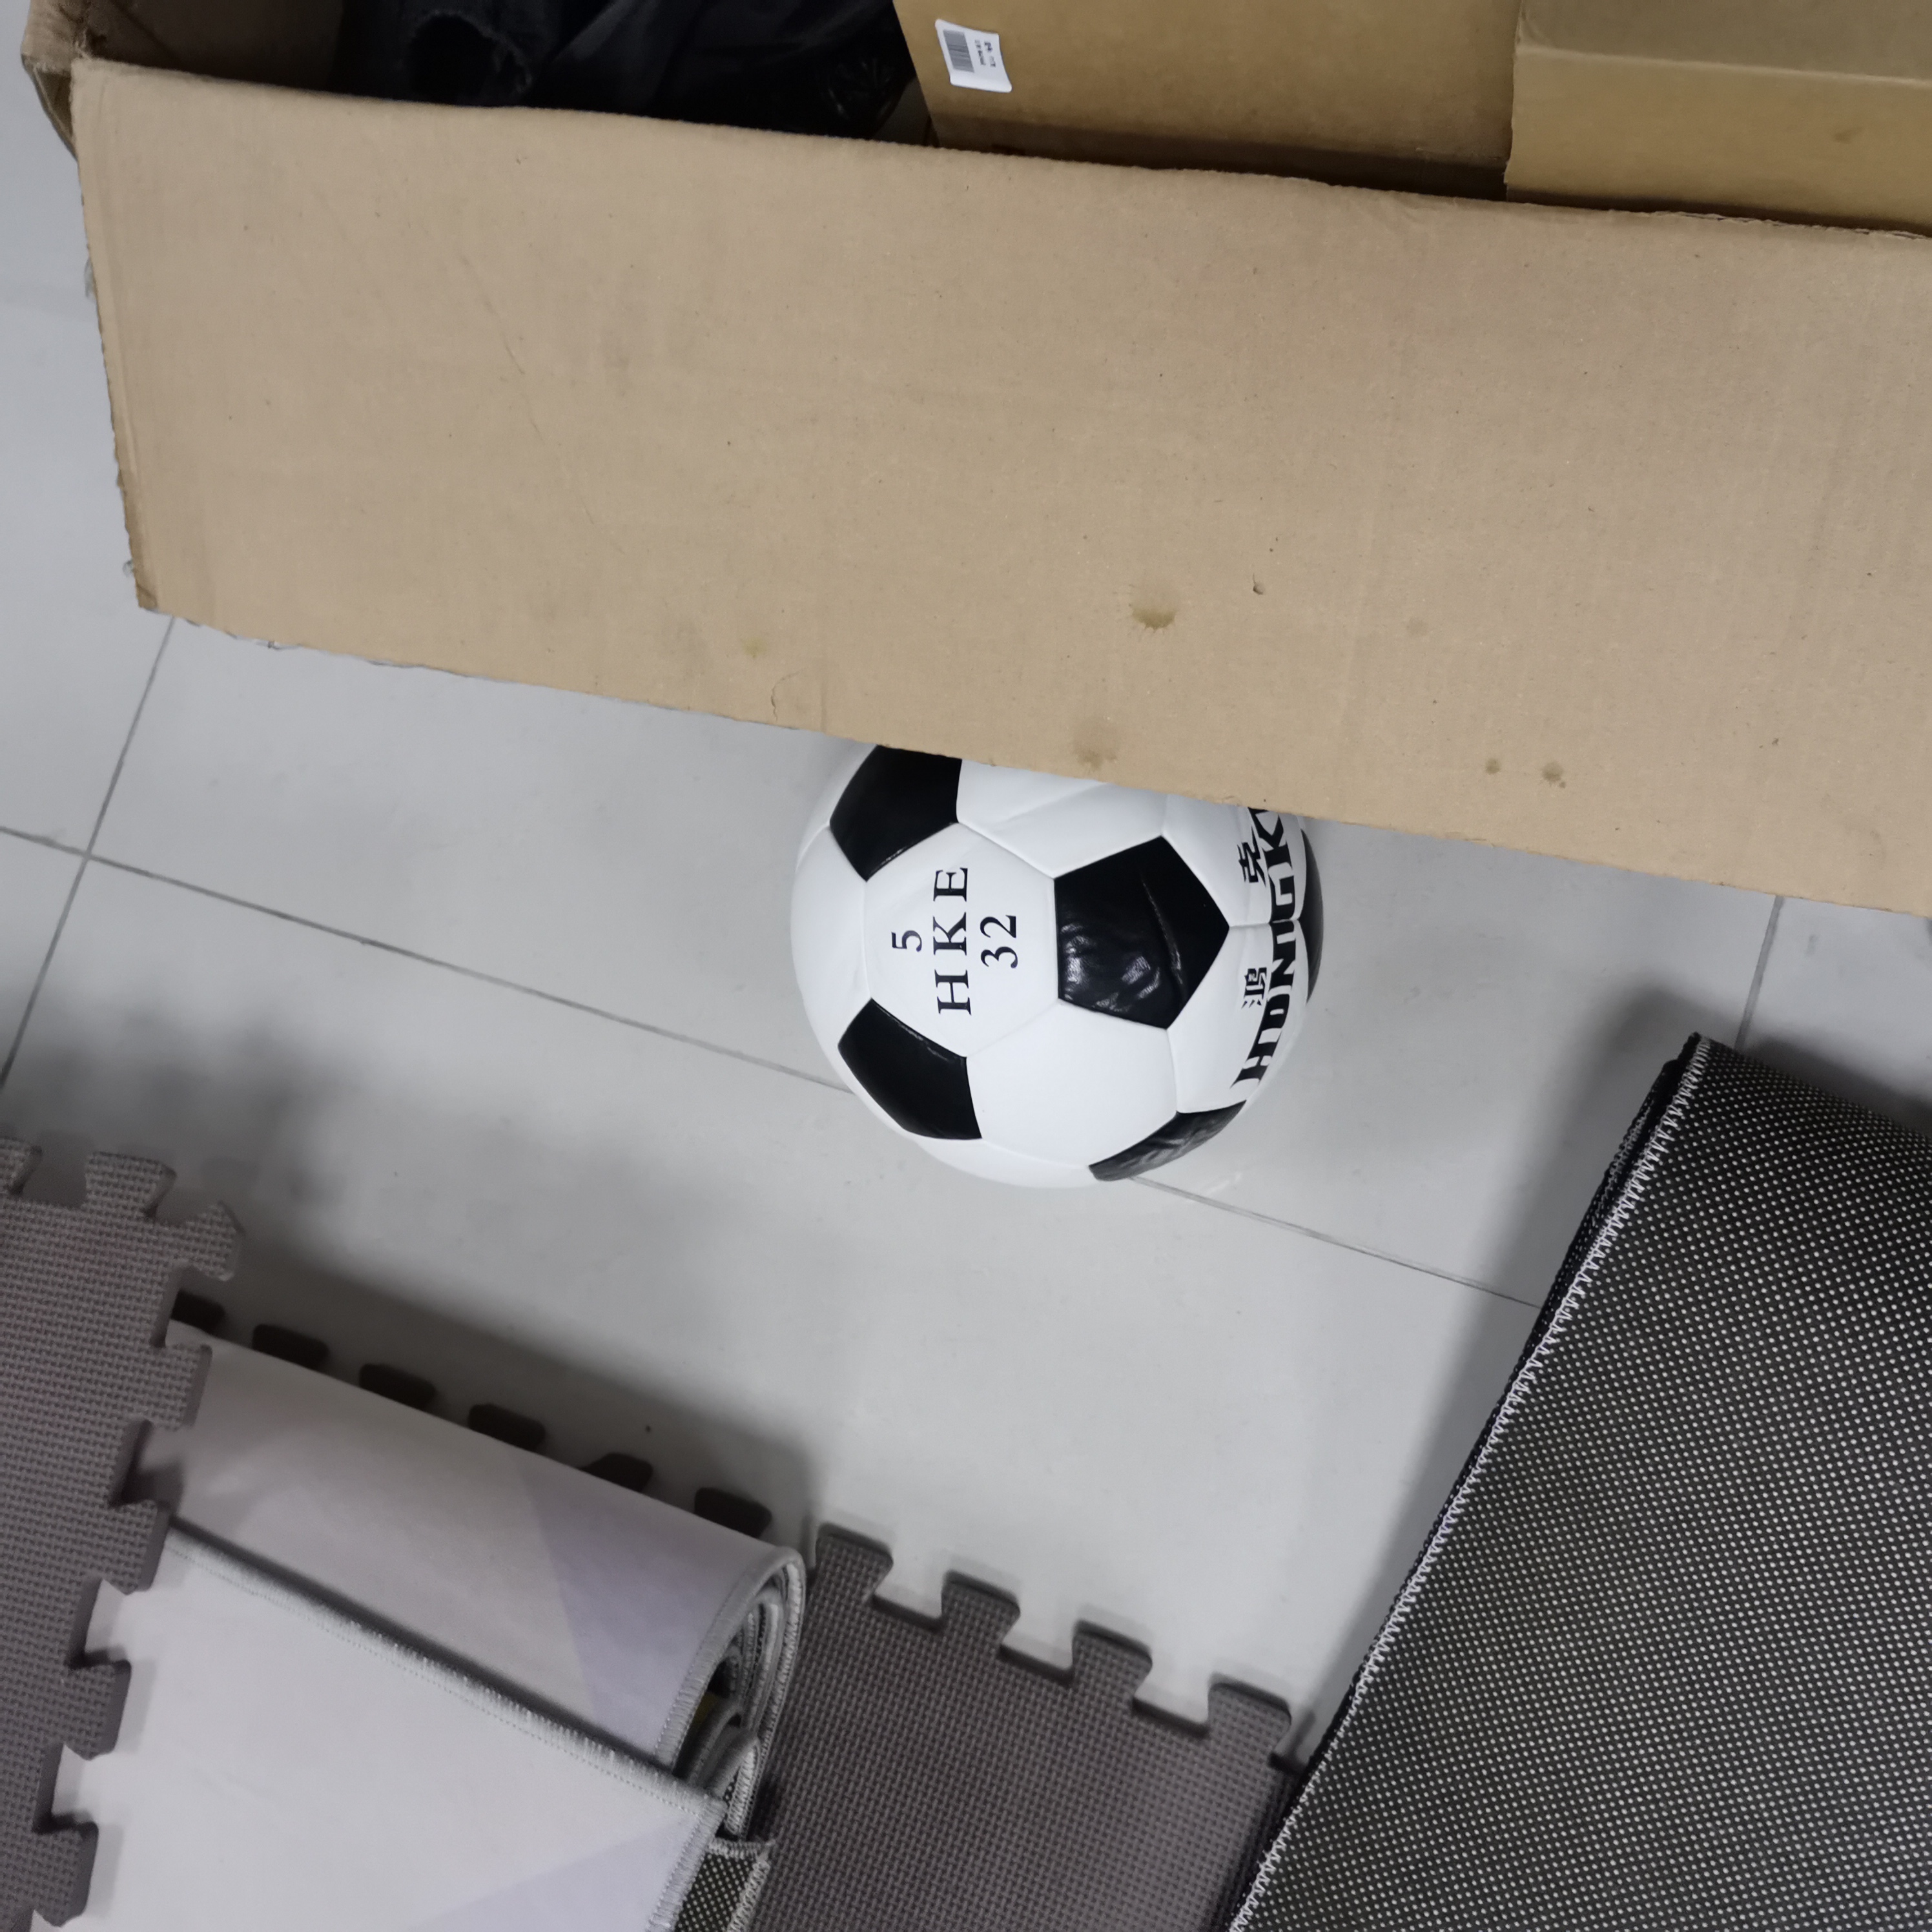football: (793, 750, 1338, 1201)
